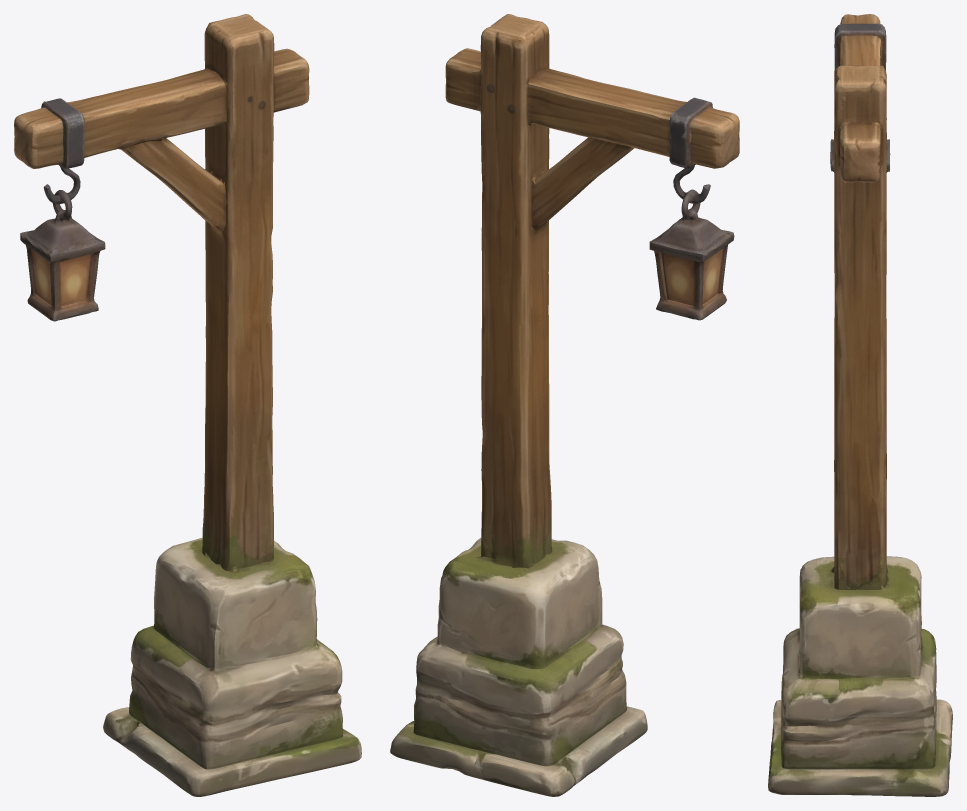
File: cloudreach_hanging_lantern_post.glb
3 renders of one model, left to right at view 1: azimuth 30°, elevation 25°; view 2: azimuth 150°, elevation 25°; view 3: azimuth 270°, elevation 25°, orthographic. The views are drawn at different scales.
Visible parts, largest first — view 1: Mesh_0; view 2: Mesh_0; view 3: Mesh_0.
Boxes of the visible parts, bbox=[...] form: Mesh_0: bbox=[14, 14, 361, 796]; Mesh_0: bbox=[390, 14, 739, 796]; Mesh_0: bbox=[768, 14, 952, 796].
Size of the model in its own units: 1.4 by 3.2 by 0.78.
1 material, 1 textured.
